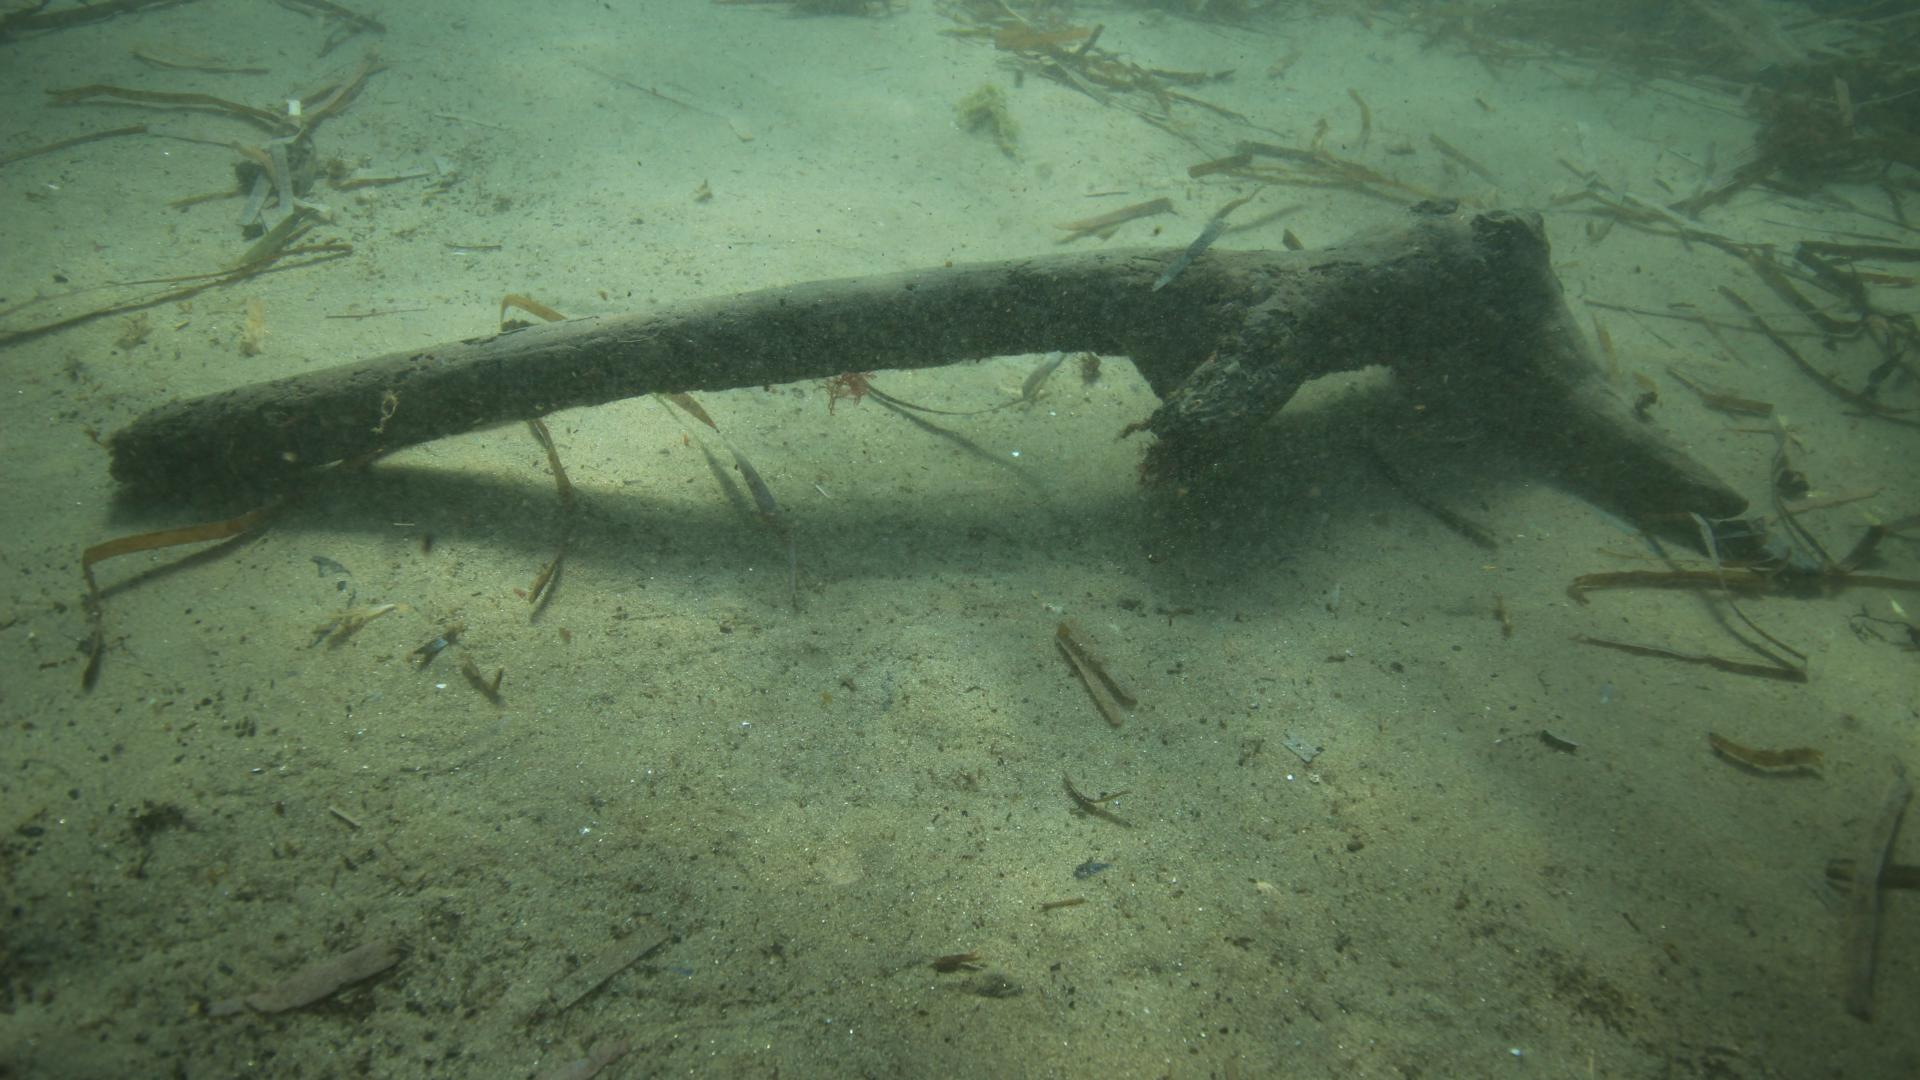wood: (109, 200, 1750, 521)
